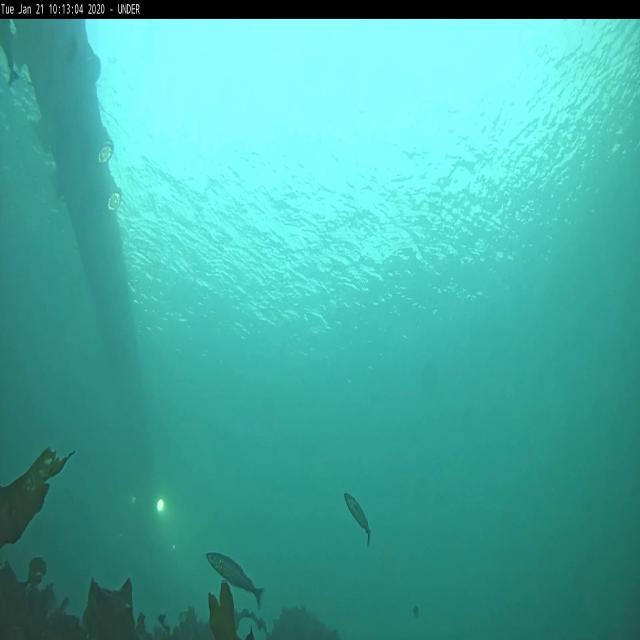fish: (206, 552, 265, 608), (344, 494, 372, 545), (1, 19, 20, 88)
